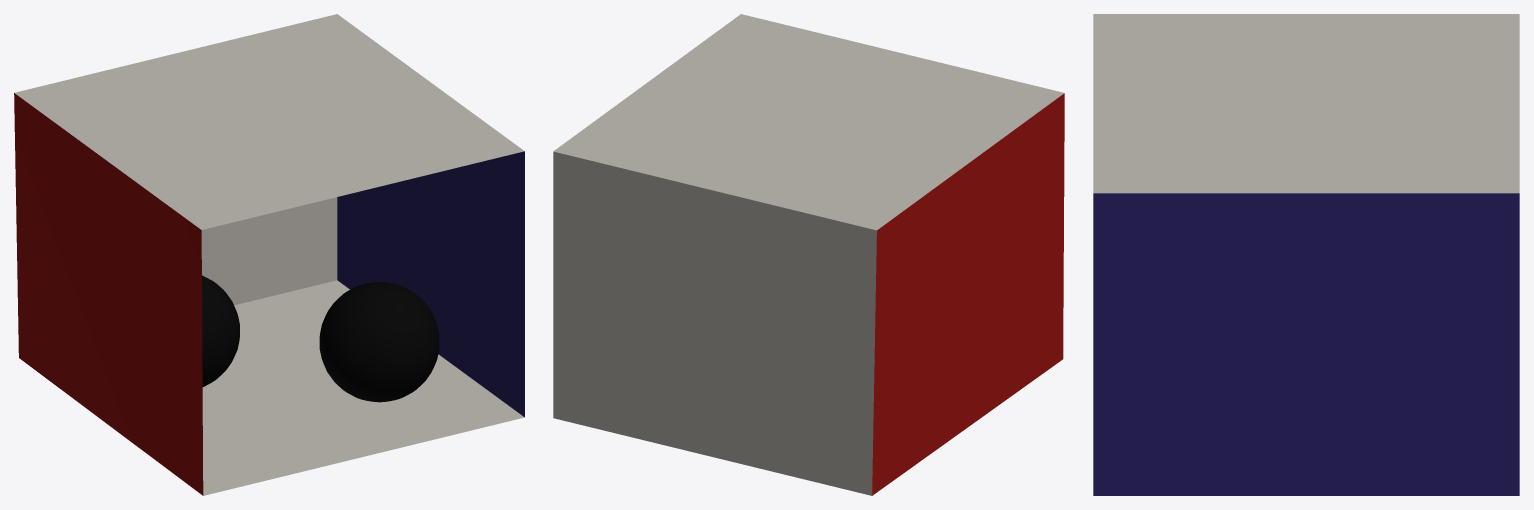
The model's file is CornellBox-Sphere.obj.
The picture shows the model from 3 angles, left to right: view 1: azimuth 30°, elevation 25°; view 2: azimuth 150°, elevation 25°; view 3: azimuth 270°, elevation 25°; orthographic projection. The views are drawn at different scales.
Visible parts, largest first — view 1: CornellBox-Sphere; view 2: CornellBox-Sphere; view 3: CornellBox-Sphere.
Boxes of the visible parts, x1,y1,x2,y2 form: CornellBox-Sphere: [14, 14, 524, 495]; CornellBox-Sphere: [553, 14, 1064, 495]; CornellBox-Sphere: [1093, 14, 1519, 495].
Bounding box in the file's own units: 2.02 × 1.59 × 2.03.
